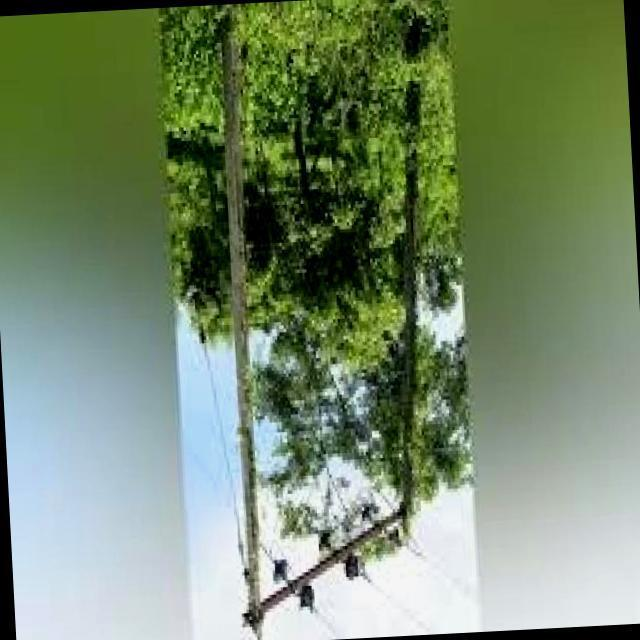critical vegetation: (195, 260, 448, 575)
